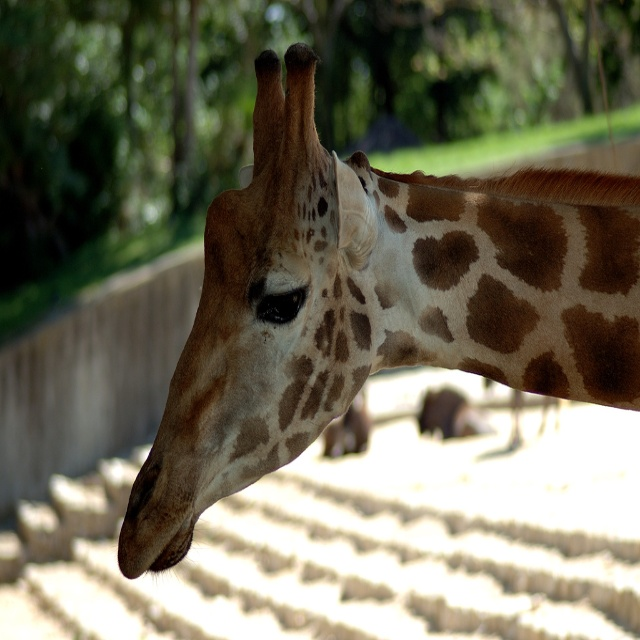Giraffe: (113, 37, 640, 580)
